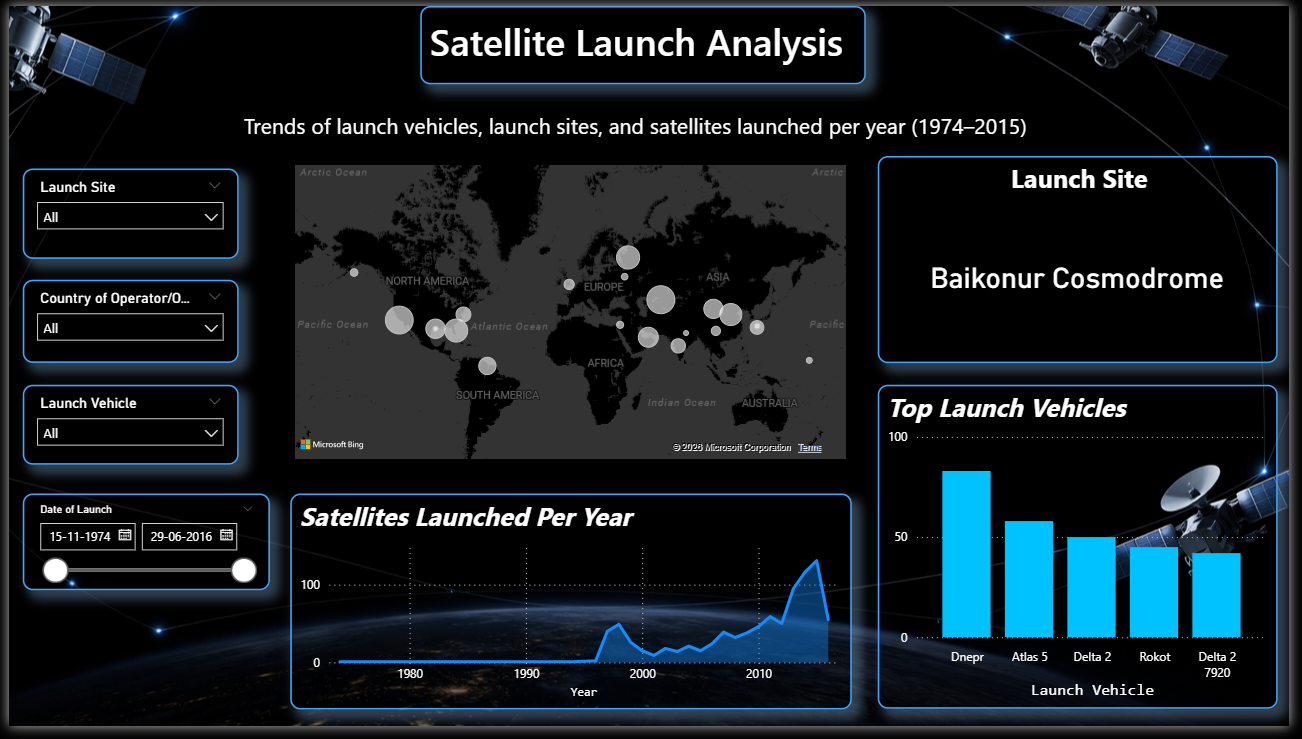

What the dashboard file says about the page in this screenshot:
{"tool":"powerbi","page":{"name":"Launch Analysis","canvas":[1280,720],"ordinal":3},"visuals":[{"type":"textbox","box":[411.4,0,445.7,78.6],"z":0},{"type":"textbox","box":[230,100,818.6,51.4],"z":1000},{"type":"areaChart","title":"Satellites Launched Per Year","fields":{"Category":["maindata.Date of Launch.Variation.Date Hierarchy.Year"],"Y":["CountNonNull(maindata.Official Name of Satellite)"]},"box":[281.4,487.1,561.4,215.7],"z":2000},{"type":"columnChart","title":"Top Launch Vehicles","fields":{"Y":["CountNonNull(maindata.Official Name of Satellite)"],"Category":["maindata.Launch Vehicle"]},"box":[868.6,378.6,400,324.3],"z":3000},{"type":"map","fields":{"Category":["maindata.Launch Site"],"Size":["CountNonNull(maindata.Official Name of Satellite)"]},"box":[281.4,154.3,561.4,304.3],"z":4000},{"type":"slicer","fields":{"Values":["maindata.Date of Launch"]},"box":[14.3,487.1,247.1,97.1],"z":5000},{"type":"slicer","fields":{"Values":["maindata.Country of Operator/Owner"]},"box":[14.3,273.9,215.7,82.9],"z":6000},{"type":"slicer","fields":{"Values":["maindata.Launch Vehicle"]},"box":[14.3,378.6,215.7,80],"z":7000},{"type":"slicer","fields":{"Values":["maindata.Launch Site"]},"box":[14.3,162.9,215.7,90],"z":8000},{"type":"card","title":"Launch Site","fields":{"Values":["Min(maindata.Launch Site)"]},"box":[868.6,150,400,207.1],"z":9000}]}

Visuals, with their boxes in screenshot pixels (x1, y1, x2, y2), scaled from the page's 1280x720 canvas onto the 1302x739 screenshot:
textbox: <region>418, 0, 872, 81</region>
textbox: <region>234, 103, 1067, 155</region>
"Satellites Launched Per Year" areaChart: <region>286, 500, 857, 721</region>
"Top Launch Vehicles" columnChart: <region>884, 389, 1290, 721</region>
map - maindata.Launch Site x CountNonNull(maindata.Official Name of Satellite): <region>286, 158, 857, 471</region>
slicer - maindata.Date of Launch: <region>15, 500, 266, 600</region>
slicer - maindata.Country of Operator/Owner: <region>15, 281, 234, 366</region>
slicer - maindata.Launch Vehicle: <region>15, 389, 234, 471</region>
slicer - maindata.Launch Site: <region>15, 167, 234, 260</region>
"Launch Site" card: <region>884, 154, 1290, 367</region>
